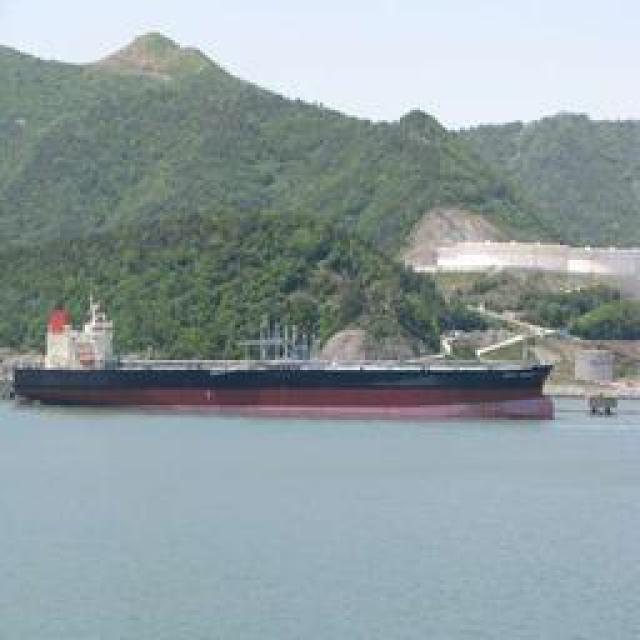Ship: (8, 344, 566, 414)
